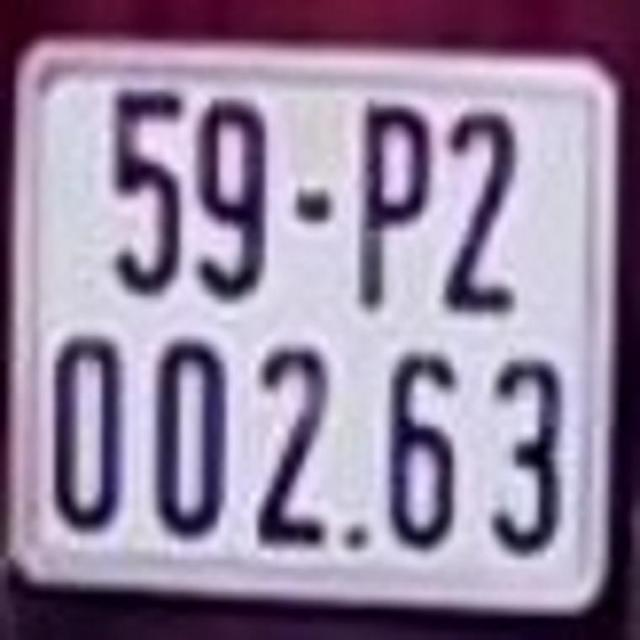0: (155, 338, 231, 544), (57, 337, 122, 529)
2: (441, 106, 522, 317), (260, 350, 323, 540)
3: (496, 360, 562, 562)
5: (104, 84, 188, 287)
6: (391, 356, 454, 550)
9: (195, 92, 272, 296)
P: (358, 102, 430, 324)
